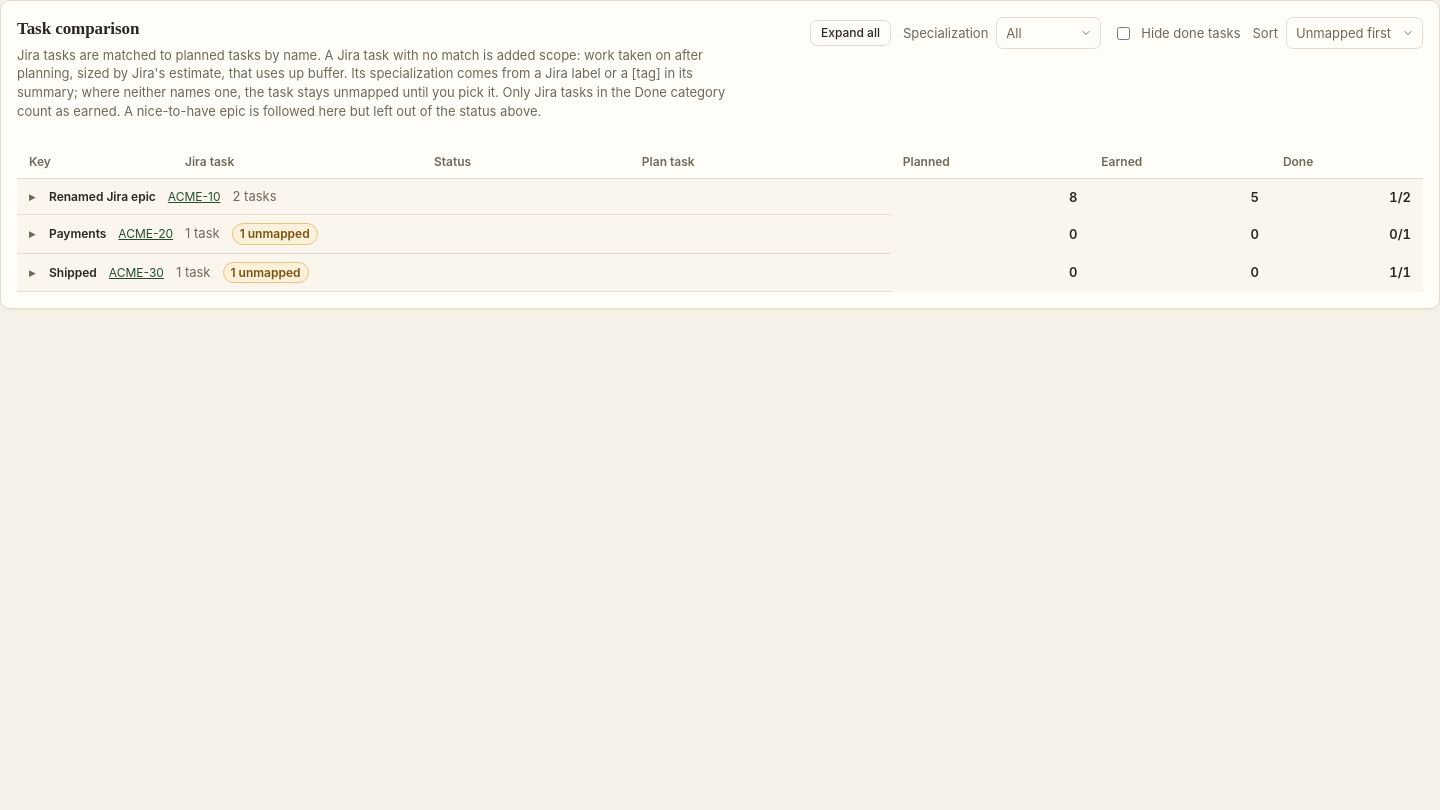
Scenario: TasksTable › hides done tasks, and epics with nothing left, when asked
The width and height of the screenshot is (1440, 810).
Step 1. Click the button "Expand all" → (850, 33), box [810,20,891,46]
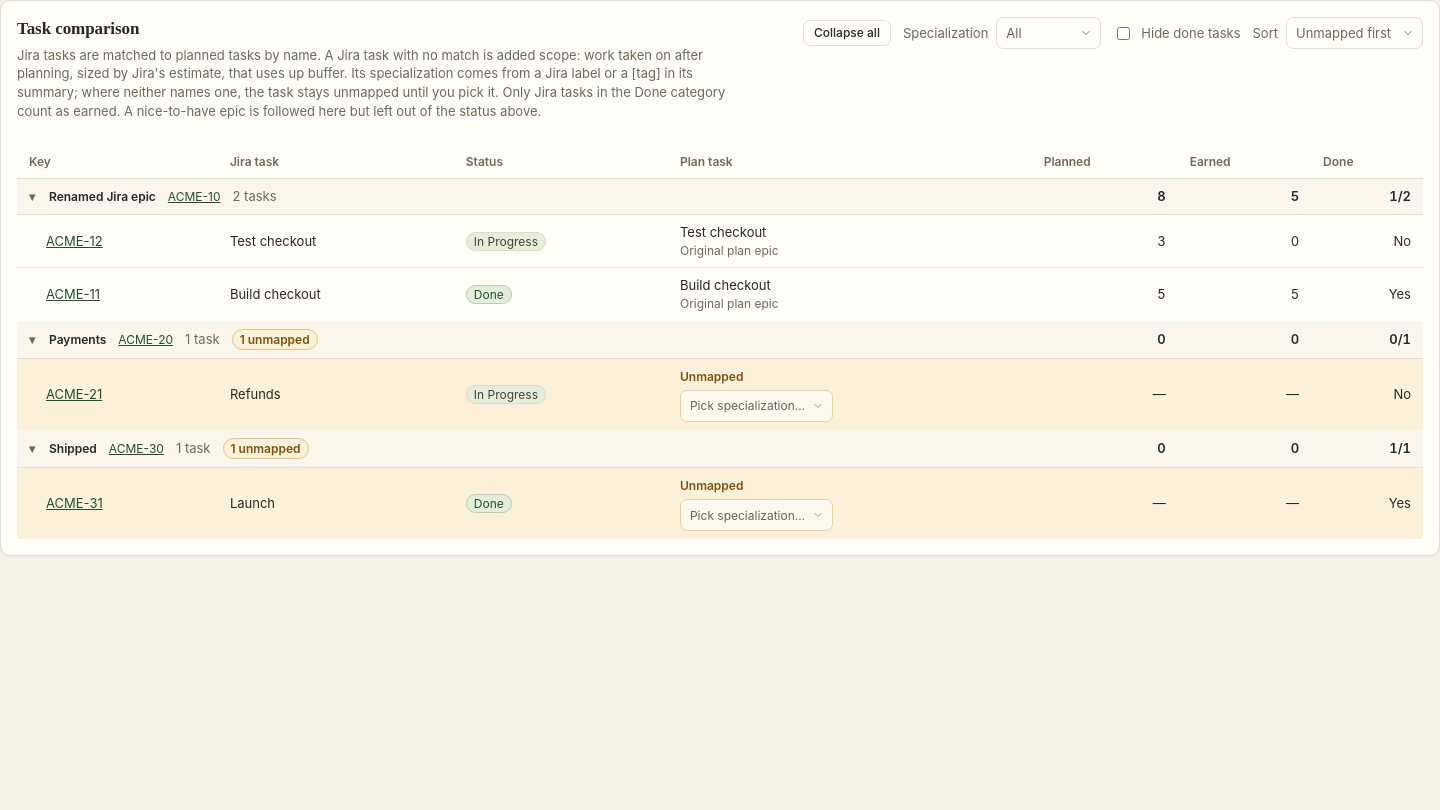
Step 2. Click the checkbox labelled "Hide done tasks" → (1124, 33), box [1117,26,1130,40]
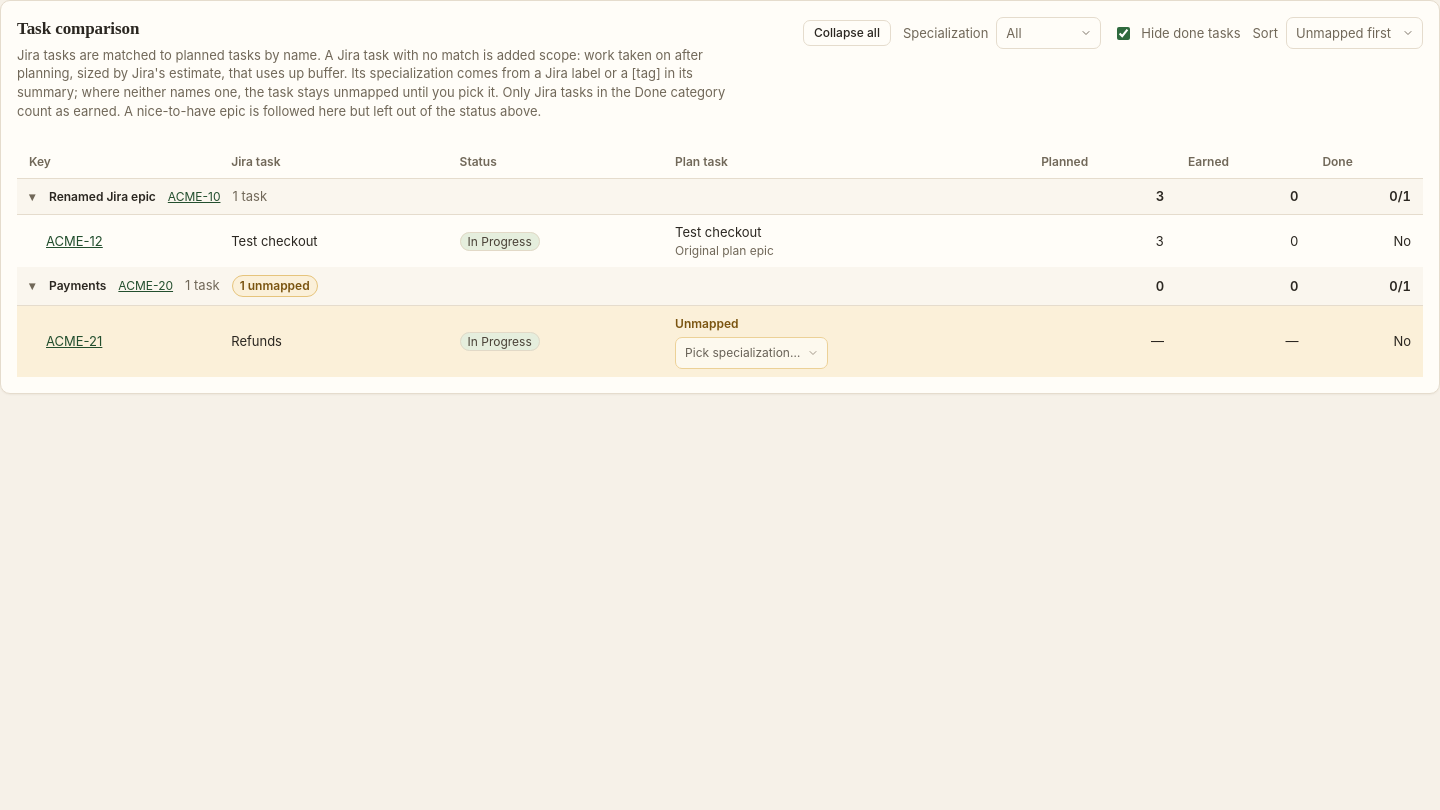
Expected: the button "Shipped" is gone
Step 3. Click the checkbox labelled "Hide done tasks" → (1124, 33), box [1117,26,1130,40]
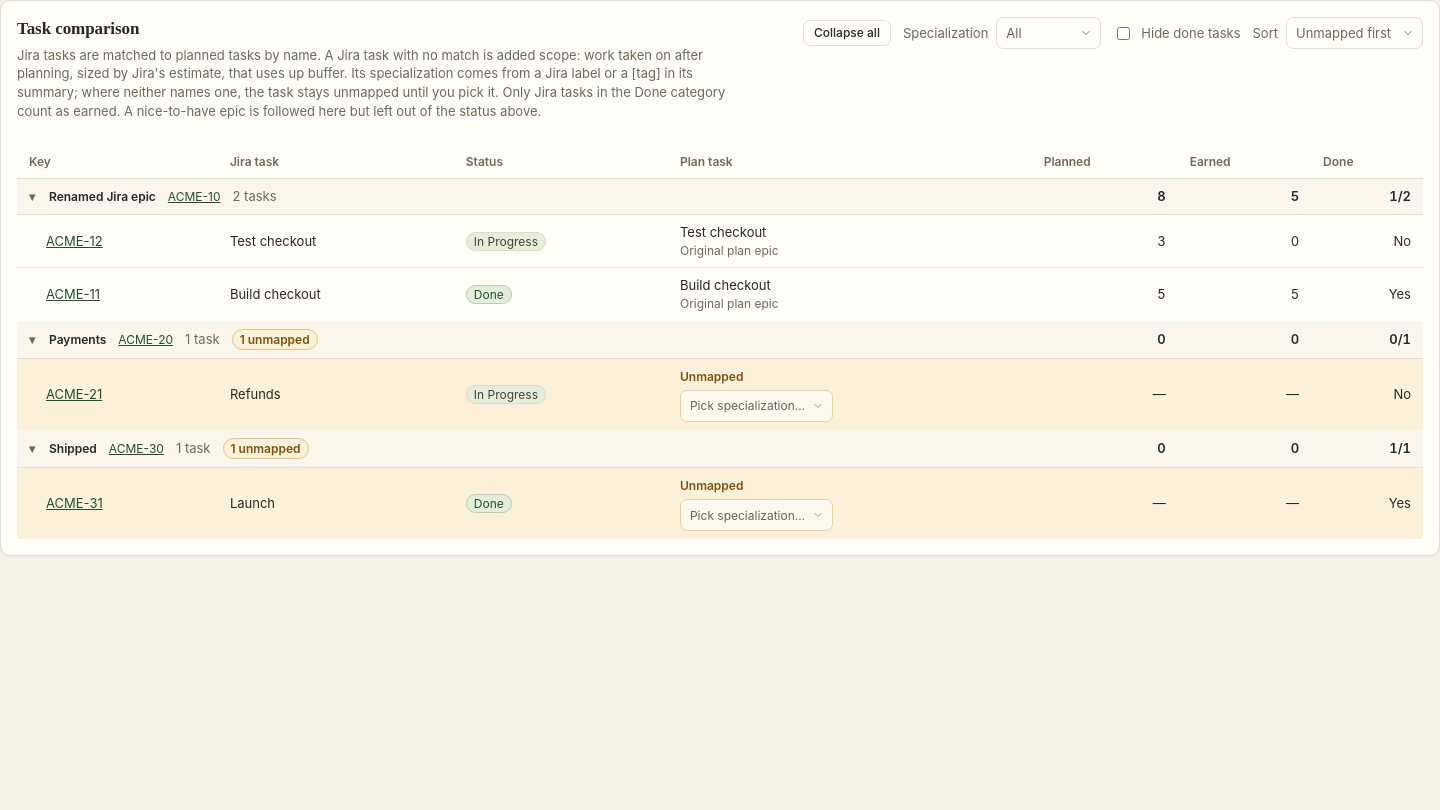
Expected: the button "▾ Shipped" is shown, [29,440,97,457]
